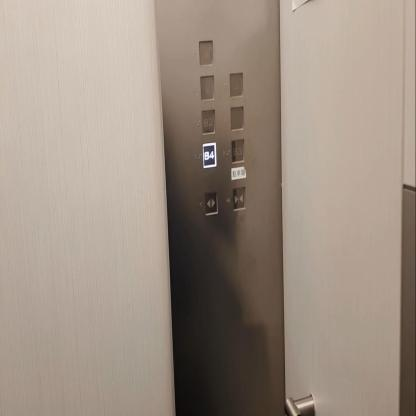2: (200, 73, 214, 100)
3: (229, 71, 243, 97)
B2: (200, 107, 215, 134)
B3: (230, 137, 245, 163)
B4: (202, 141, 216, 167)
close: (232, 184, 246, 210)
empty: (198, 39, 213, 66), (229, 104, 244, 131)
open: (203, 189, 218, 215)
